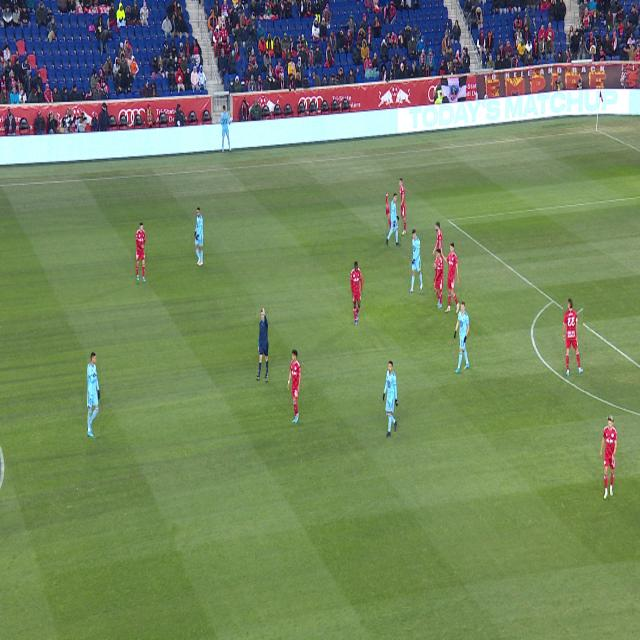player: (563, 298, 583, 376), (600, 414, 617, 500), (441, 242, 460, 313), (383, 360, 398, 437), (454, 301, 470, 373), (87, 352, 100, 437), (287, 349, 301, 423), (409, 230, 423, 293), (386, 194, 401, 247), (351, 261, 363, 325), (434, 248, 444, 309), (136, 223, 146, 283), (396, 177, 406, 235), (194, 207, 203, 266), (432, 221, 443, 255), (434, 255, 437, 273), (440, 252, 443, 260)
referee: (256, 308, 269, 381)
